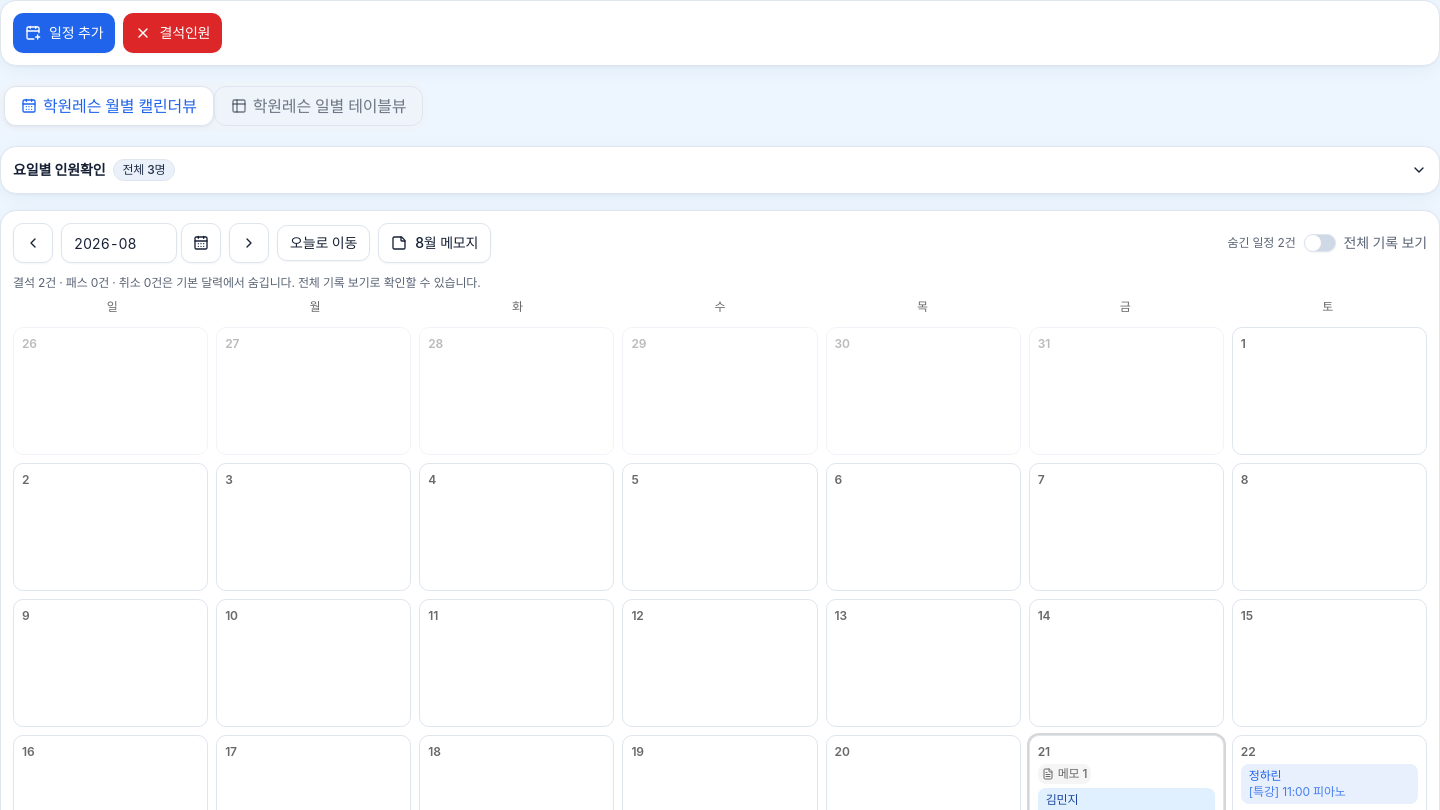
Test case: LessonManagementWorkspace › 레슨 캘린더에서 이전/다음 달과 임의 연월로 이동한다
Click the button named "학원 레슨 캘린더 다음 달" at (249, 243), box top-left (229, 223), bottom-right (269, 263)
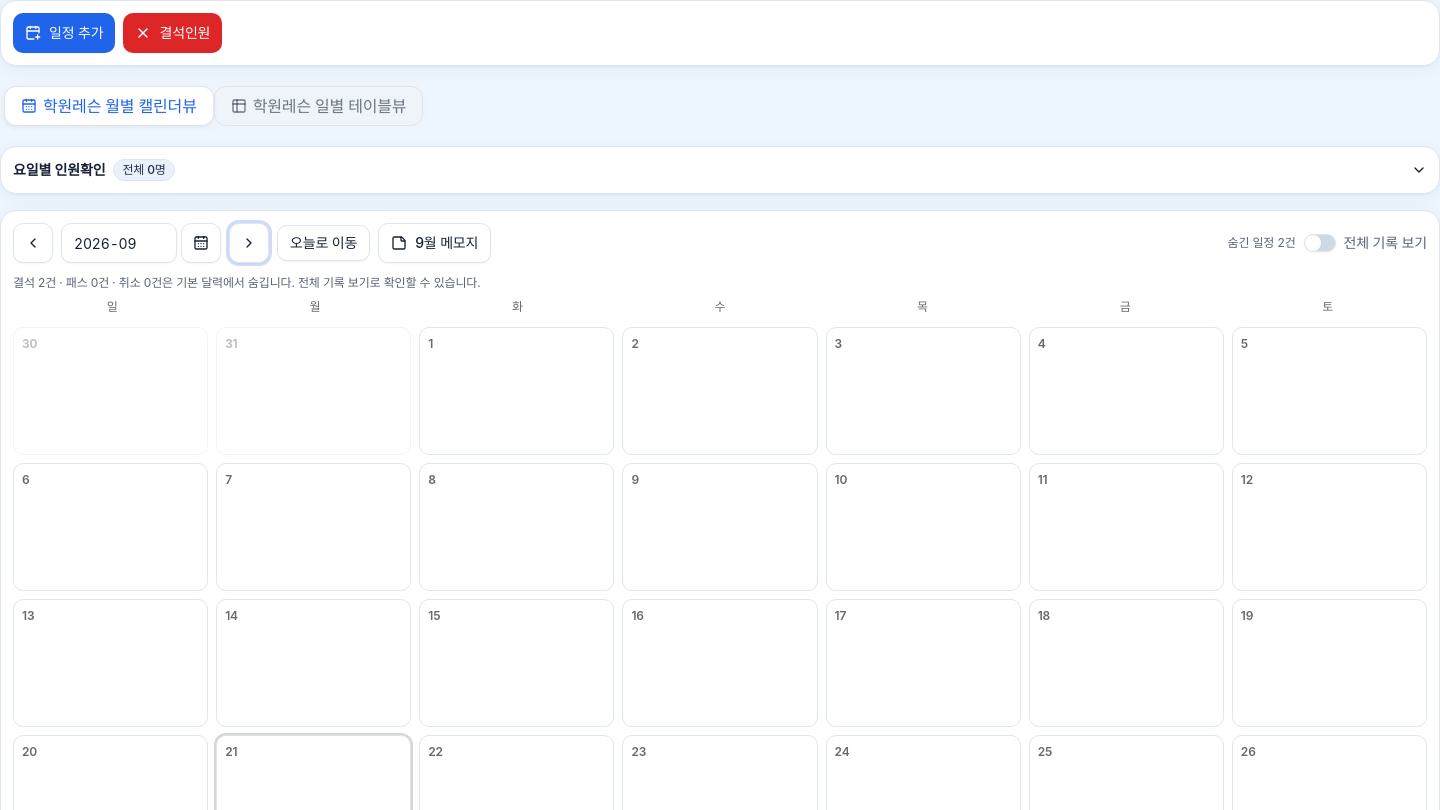
Replace the text in the field named "학원 레슨 캘린더 월 선택" with "2027-03" at (119, 243), box top-left (61, 223), bottom-right (177, 263)
(page scrolled)
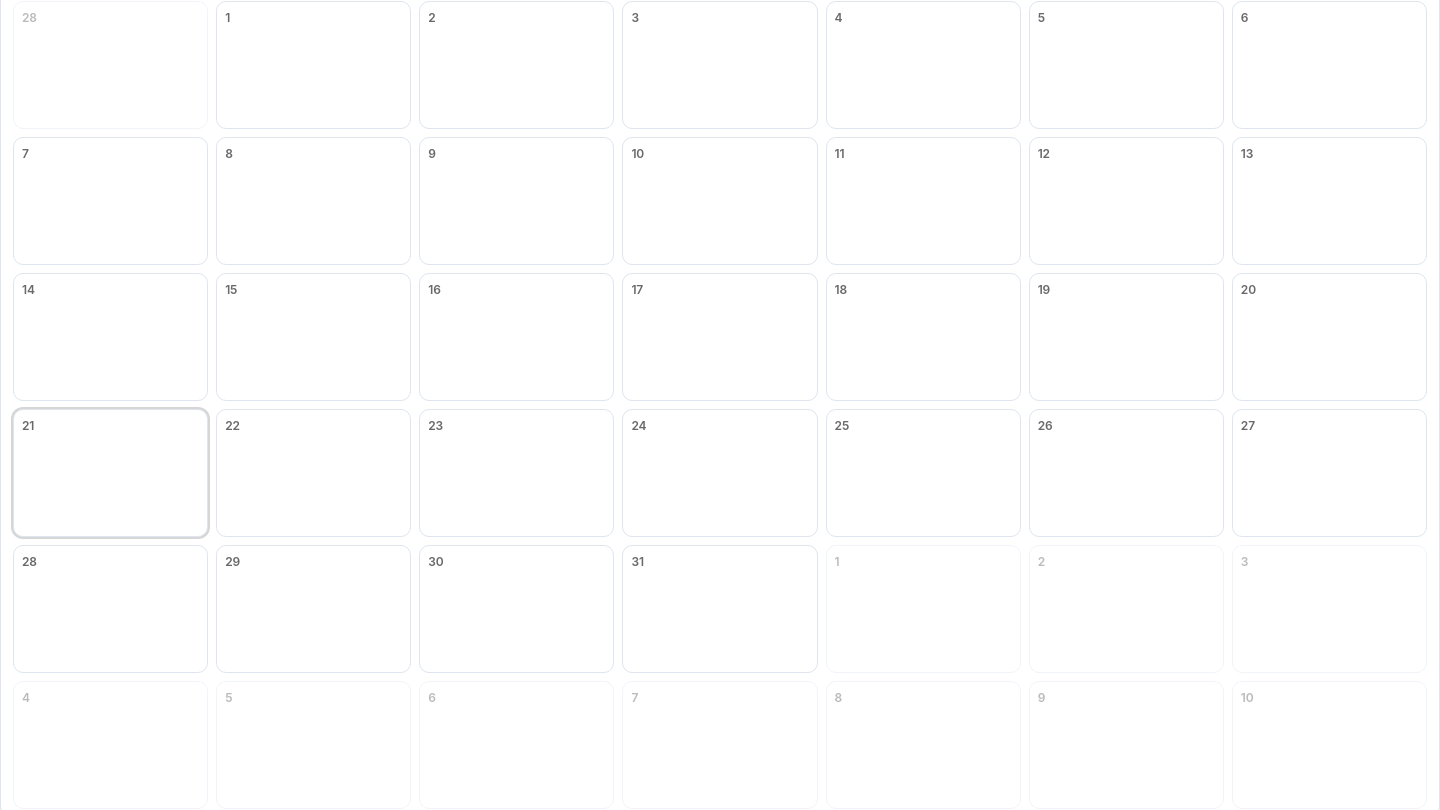
Check: the table named "2027년 3월 학원레슨 캘린더" is shown
